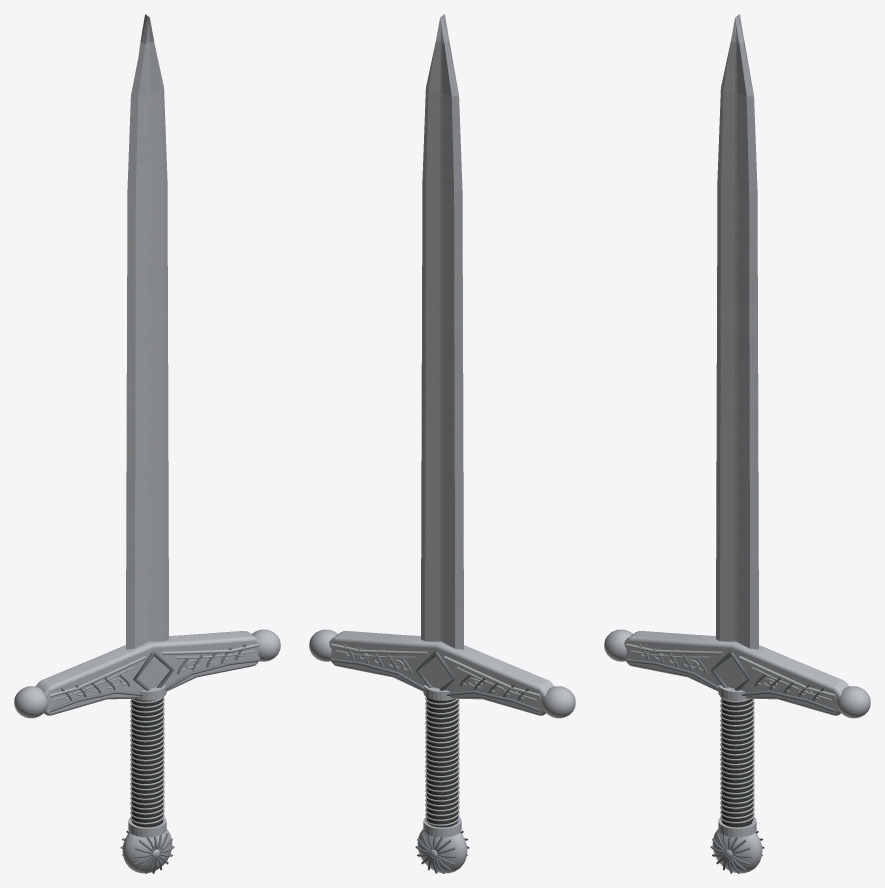
The model's file is ornate_silver_sword.glb.
3 renders of one model, left to right at view 1: azimuth 30°, elevation 25°; view 2: azimuth 150°, elevation 25°; view 3: azimuth 330°, elevation 25°, orthographic.
Parts seen in each view (by area): view 1: OrnateSilverSword; view 2: OrnateSilverSword; view 3: OrnateSilverSword.
Boxes of the visible parts, x1,y1,x2,y2 form: OrnateSilverSword: (14, 14, 280, 873); OrnateSilverSword: (309, 14, 575, 873); OrnateSilverSword: (604, 14, 870, 873).
Bounding box in the file's own units: 0.38 × 1.18 × 0.048.
Materials: 5 (2 with a texture image).
